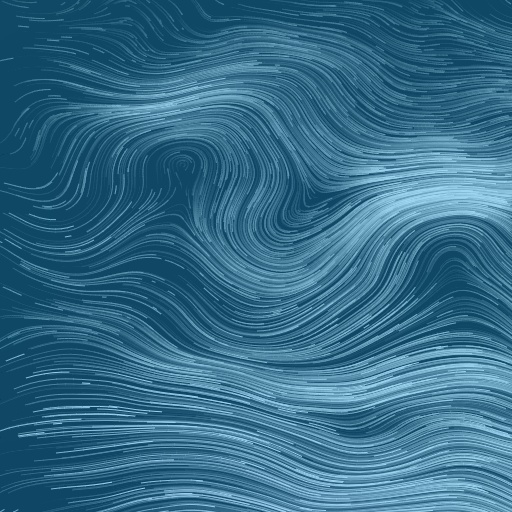eddy: (164, 151, 198, 181)
